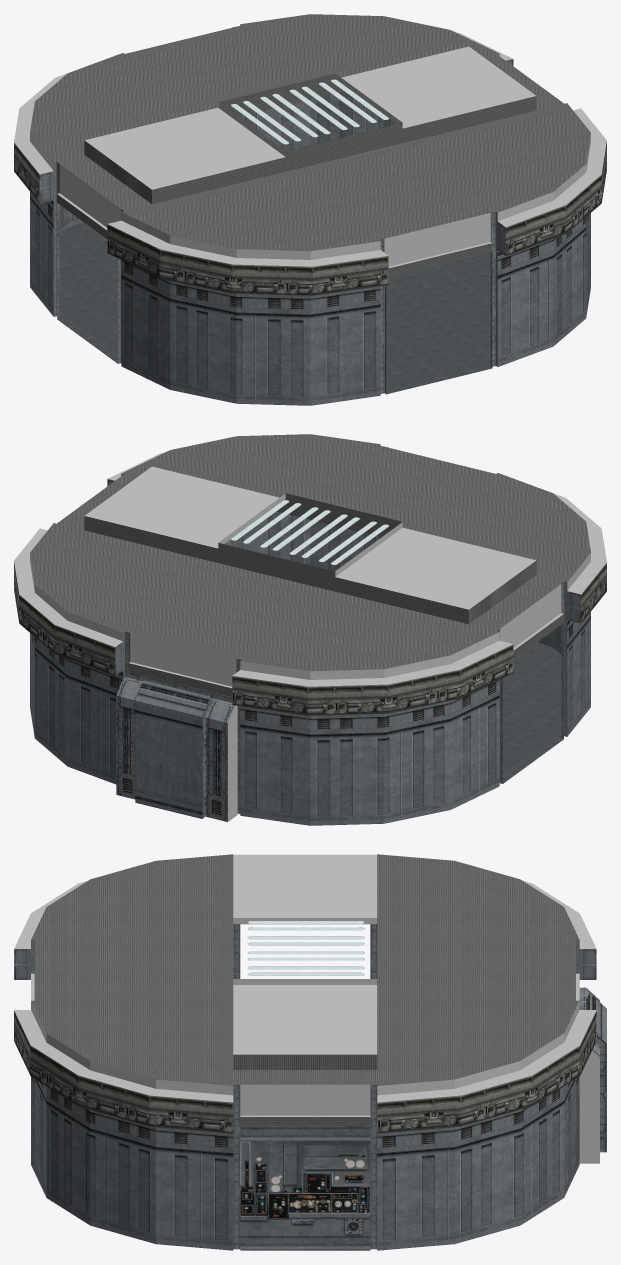
Rendered from poi_all_impl_bunker_small_outpost_s01_r19_guardroom_mesh.fbx.
3 views of the same model, one above another, from view 1: azimuth 30°, elevation 25°; view 2: azimuth 150°, elevation 25°; view 3: azimuth 270°, elevation 25° (orthographic). The views are drawn at different scales.
Parts seen in each view (by area): view 1: mesh_node; view 2: mesh_node; view 3: mesh_node.
Part boxes in pixels (x1,y1,x2,y2): mesh_node: [14, 14, 606, 405]; mesh_node: [14, 434, 606, 825]; mesh_node: [14, 854, 606, 1250].
Bounding box in the file's own units: 17 × 6 × 17.3.
